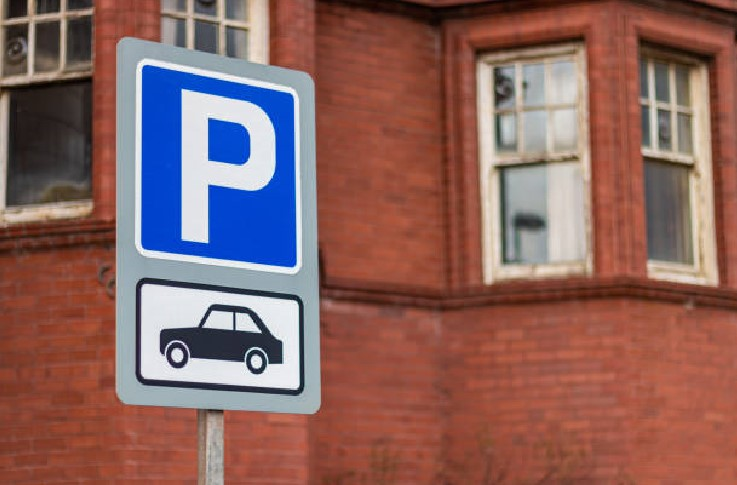Parking: (120, 62, 330, 272)
